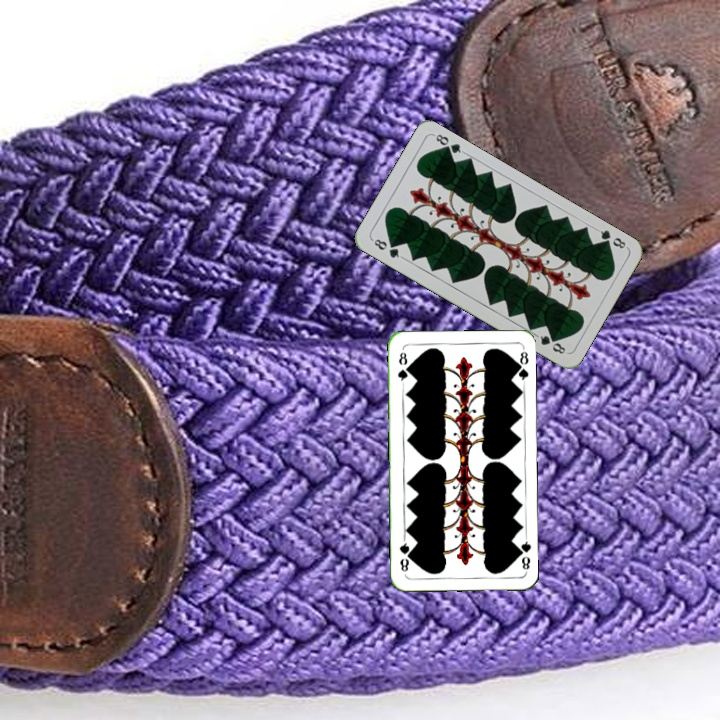G8: (368, 235, 405, 261), (592, 225, 628, 251), (513, 533, 533, 574), (393, 348, 410, 387)
